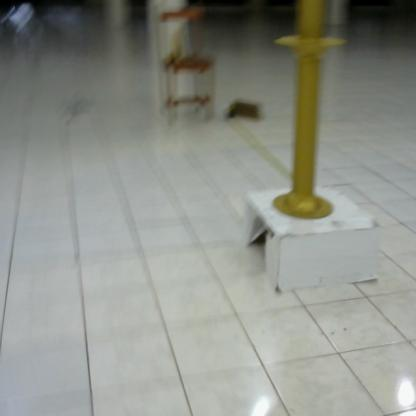pole: (266, 1, 351, 226)
